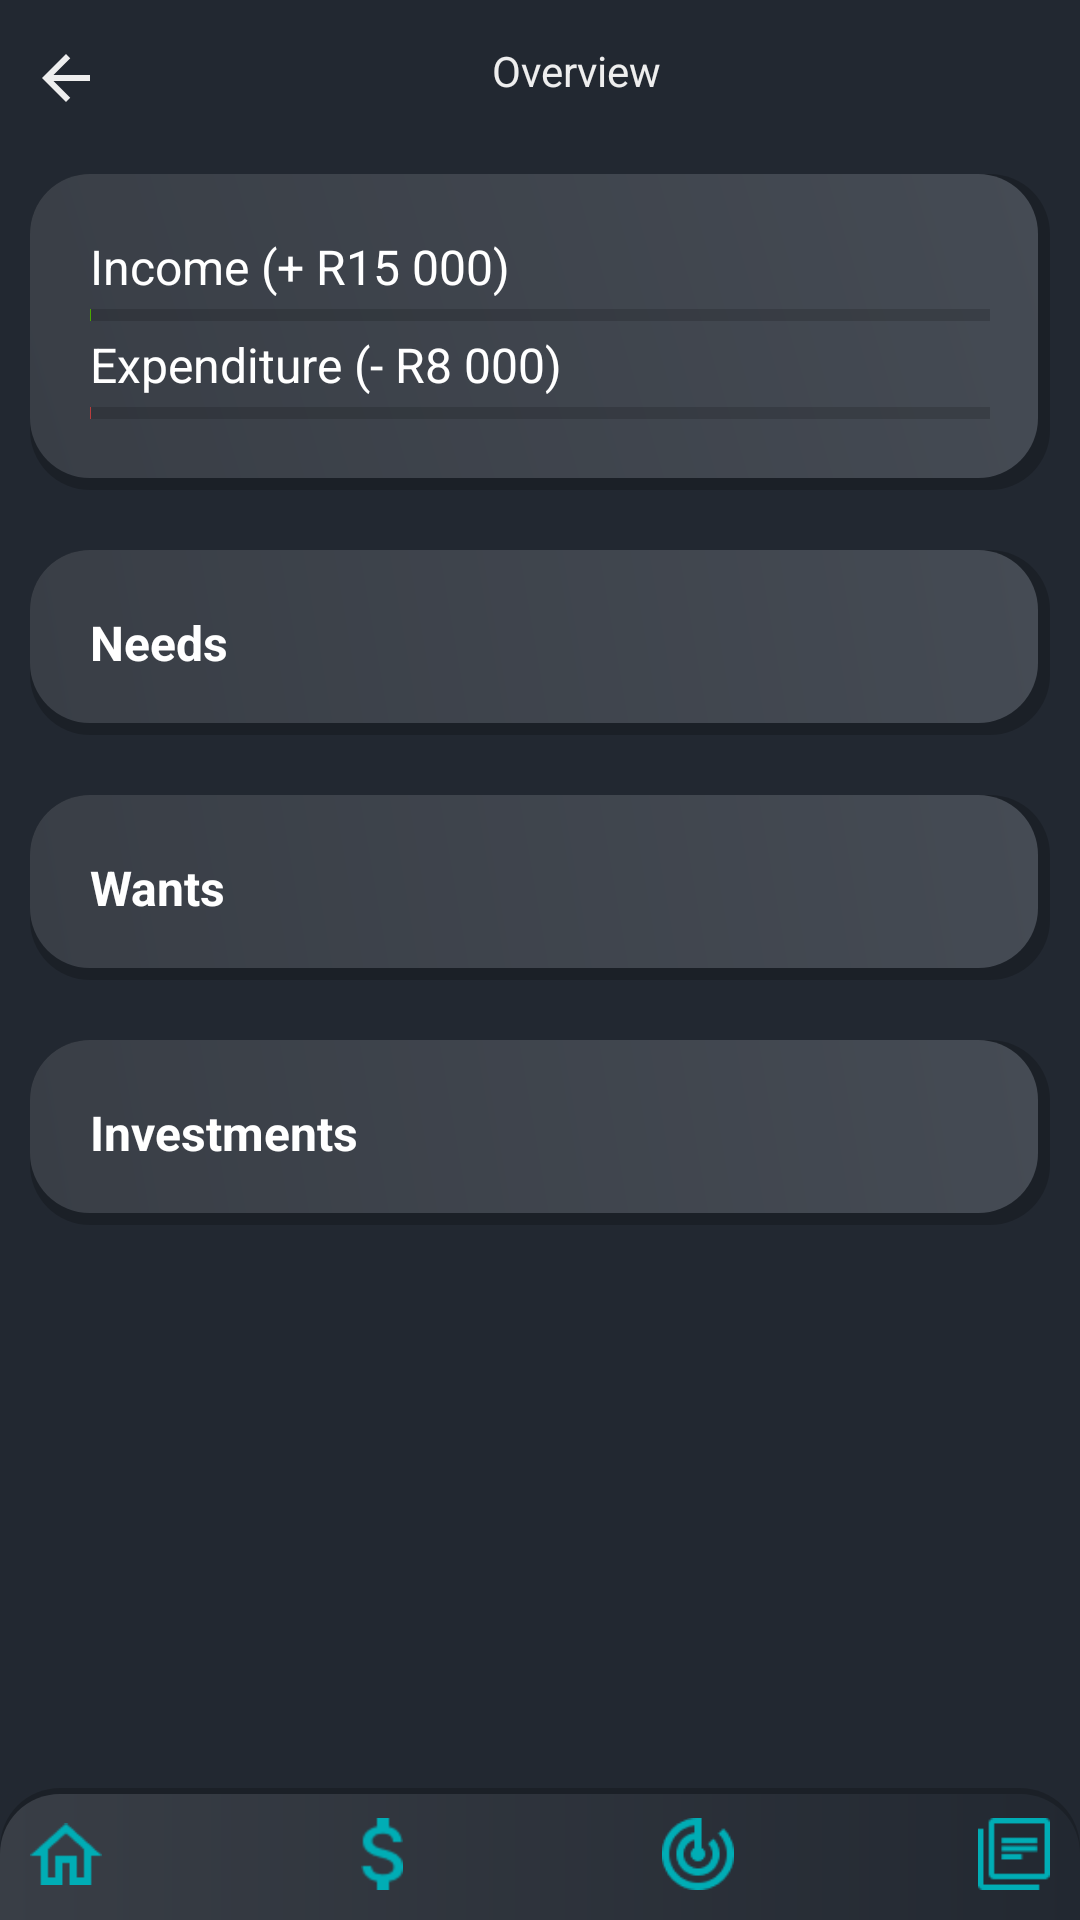

Icon click points for this 1080 x 1920 phone screenshot, format (x,y):
Back: (66,78)
Goals: (698,1854)
Home: (66,1854)
Money: (382,1854)
